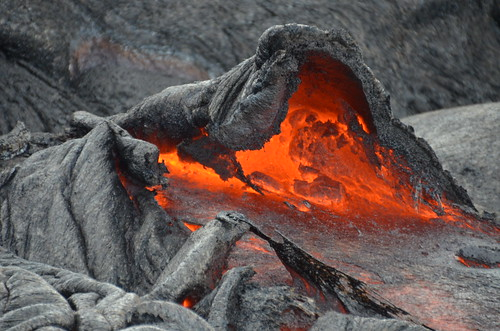lava: (59, 47, 455, 278)
